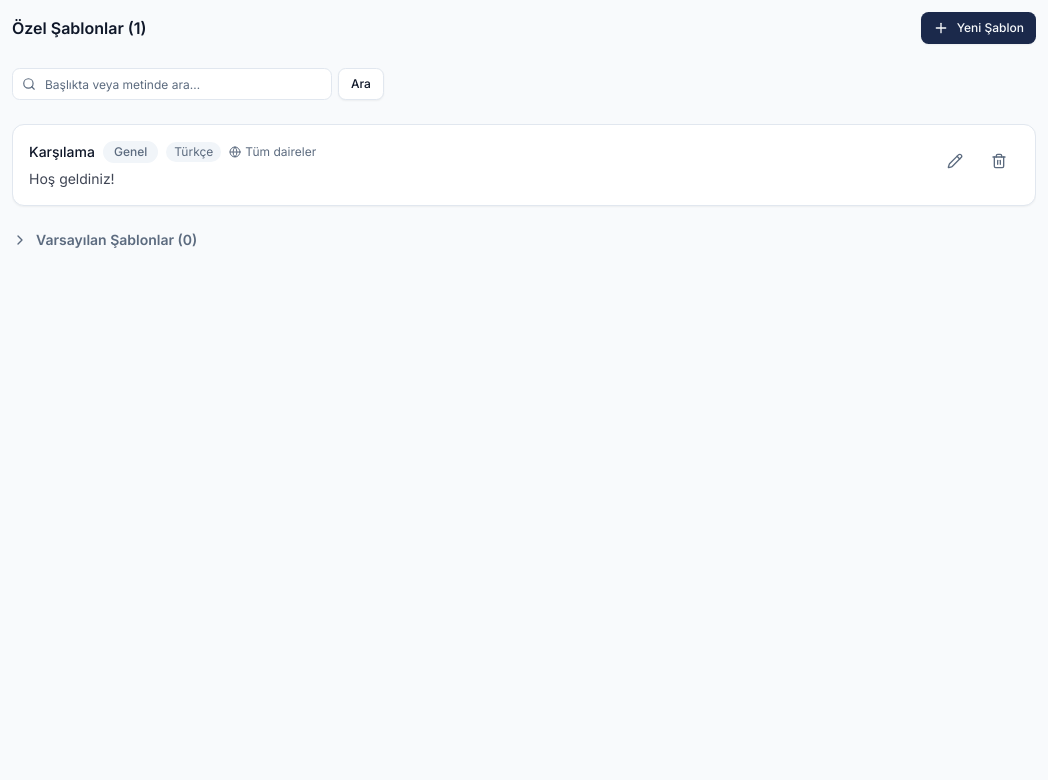
şablon düzenleme — tam metin ayrı okumadan, sürüm ön şartı (H1) › ekleme sınırı iletisi formda görünür, form açık kalır (sunucunun 400 alan iletisi)
Click the button "Yeni Şablon" at (978, 28), box [921,12,1036,44]
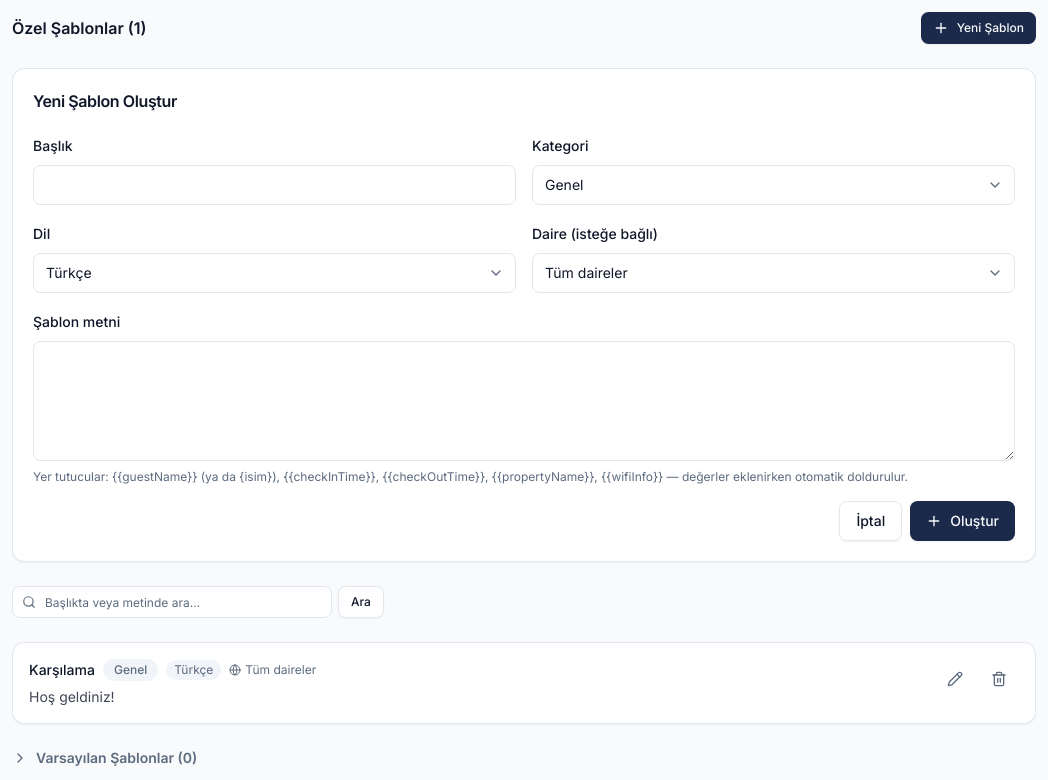
Type "Yeni" into the field labelled "Başlık" at (274, 185), box [33,165,516,205]
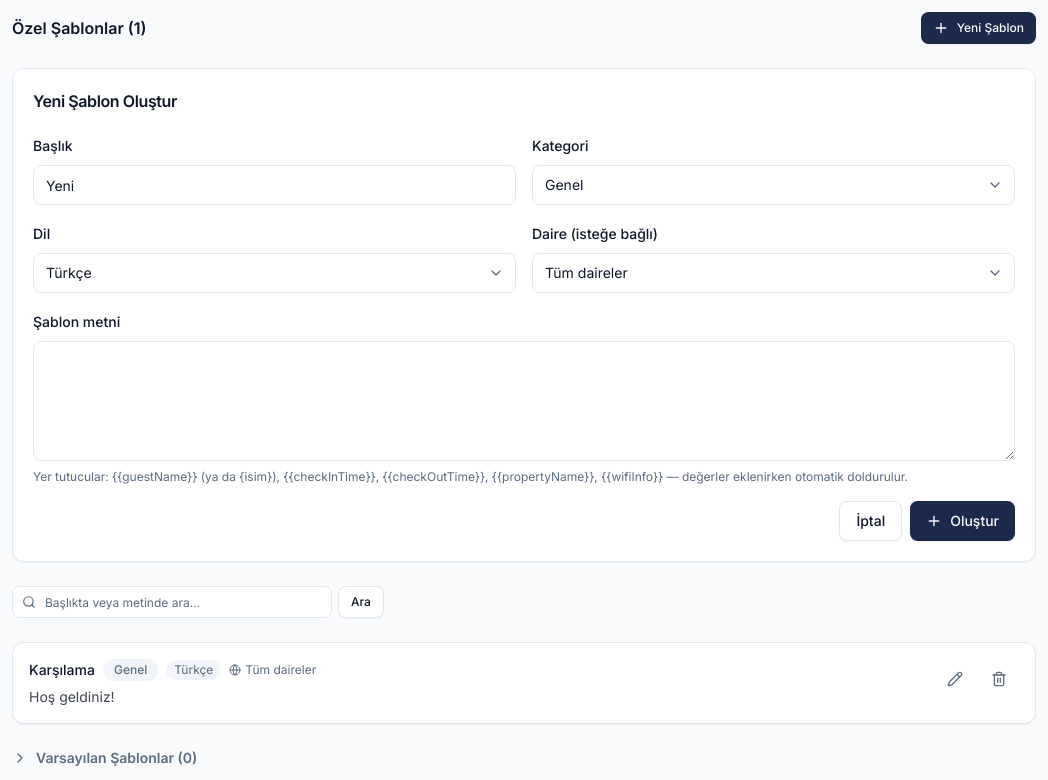
Type "Yeni metin" into the text box labelled "Şablon metni" at (524, 401), box [33,341,1015,461]
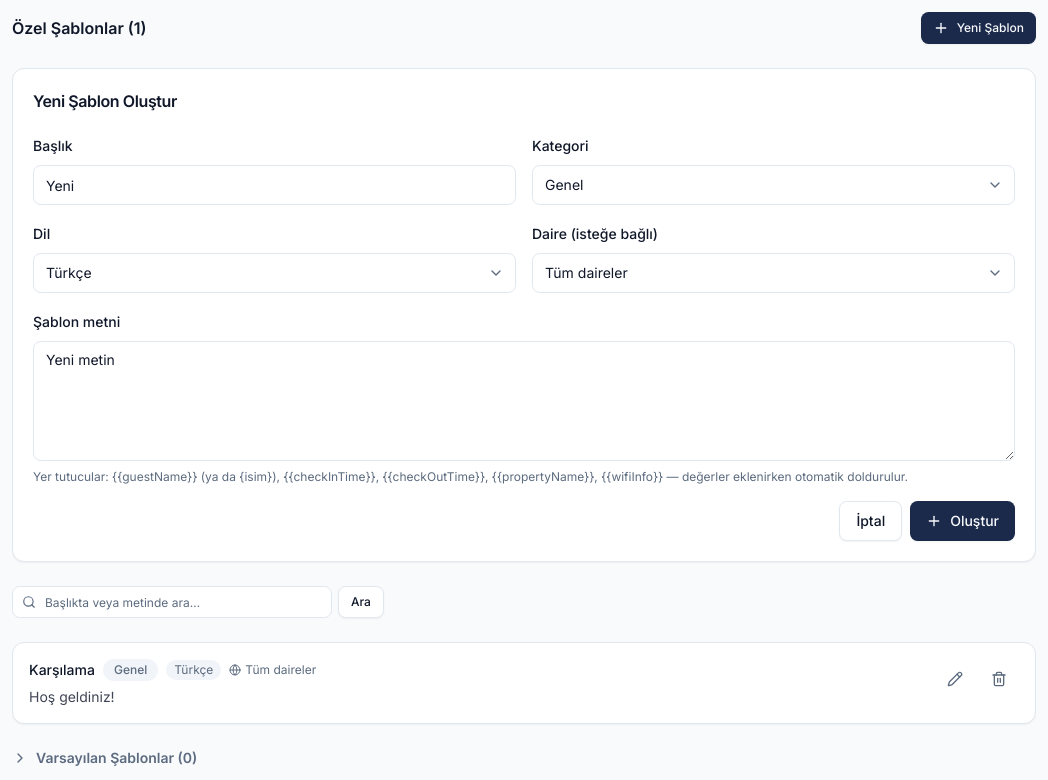
Click the button "Oluştur" at (963, 521), box [910,501,1015,541]
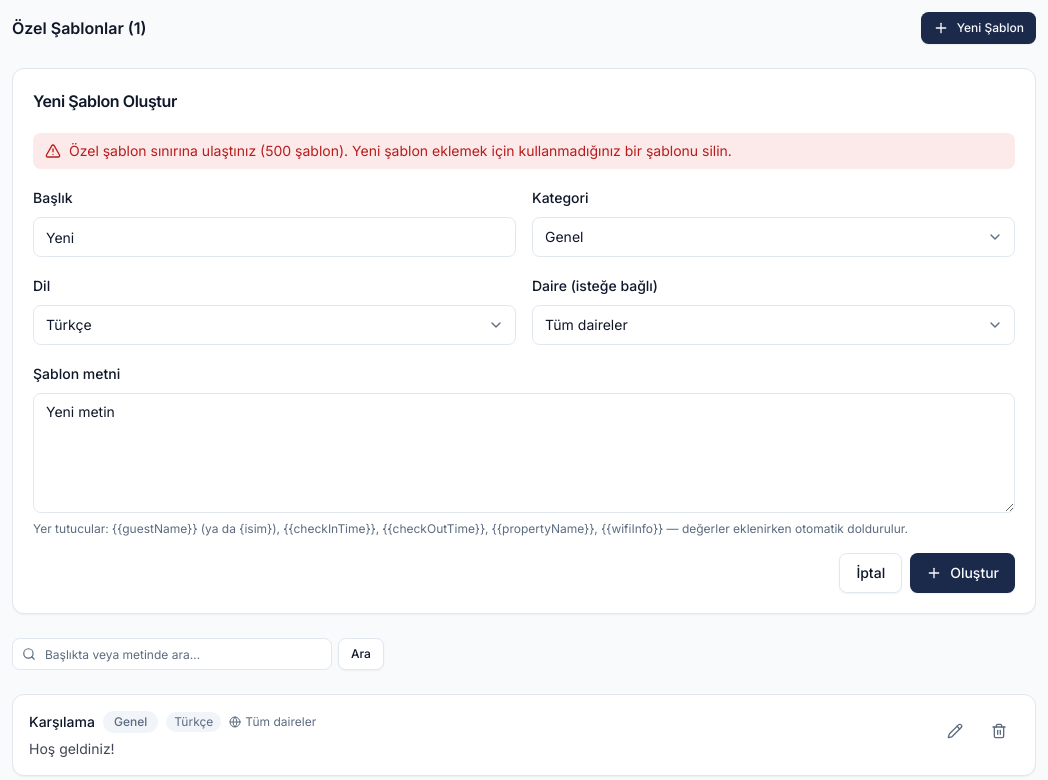
Expected: the text "Özel şablon sınırına ulaştınız (500 şablon). Yeni şablon eklemek için kullanmadığınız bir şablonu silin." is shown, [69,142,732,159]
